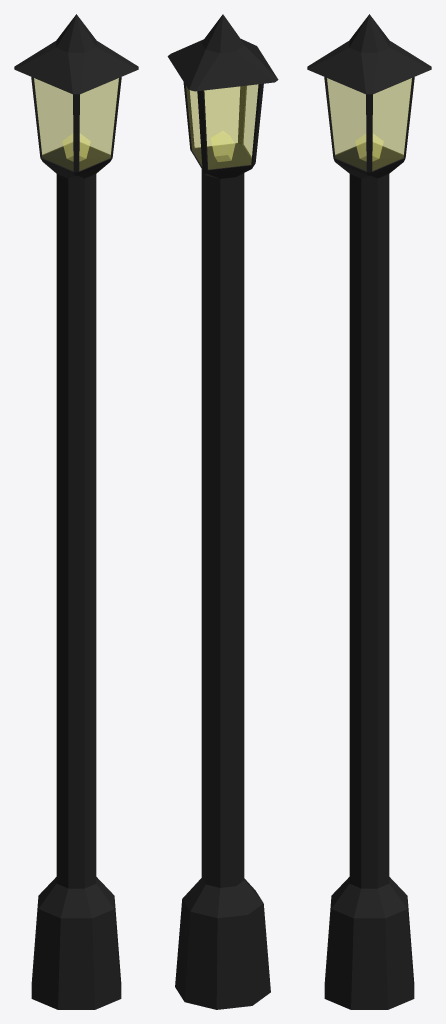
File: low-poly_lamppost.glb
3 views of the same model, side by side, from view 1: azimuth 90°, elevation 25°; view 2: azimuth 150°, elevation 25°; view 3: azimuth 270°, elevation 25° (orthographic).
Parts seen in each view (by area): view 1: Light_Post_0, Glass_1, Bulb_2; view 2: Light_Post_0, Glass_1, Bulb_2; view 3: Light_Post_0, Glass_1, Bulb_2.
Boxes of the visible parts, x1=… form: Light_Post_0: x1=14, y1=14, x2=138, y2=1009; Glass_1: x1=34, y1=78, x2=118, y2=170; Bulb_2: x1=62, y1=133, x2=90, y2=160; Light_Post_0: x1=167, y1=14, x2=278, y2=1009; Glass_1: x1=186, y1=84, x2=258, y2=169; Bulb_2: x1=211, y1=131, x2=234, y2=161; Light_Post_0: x1=307, y1=14, x2=431, y2=1009; Glass_1: x1=327, y1=78, x2=411, y2=170; Bulb_2: x1=355, y1=133, x2=383, y2=160.
Bounding box in the file's own units: 0.6346 × 5.51 × 0.6346.
